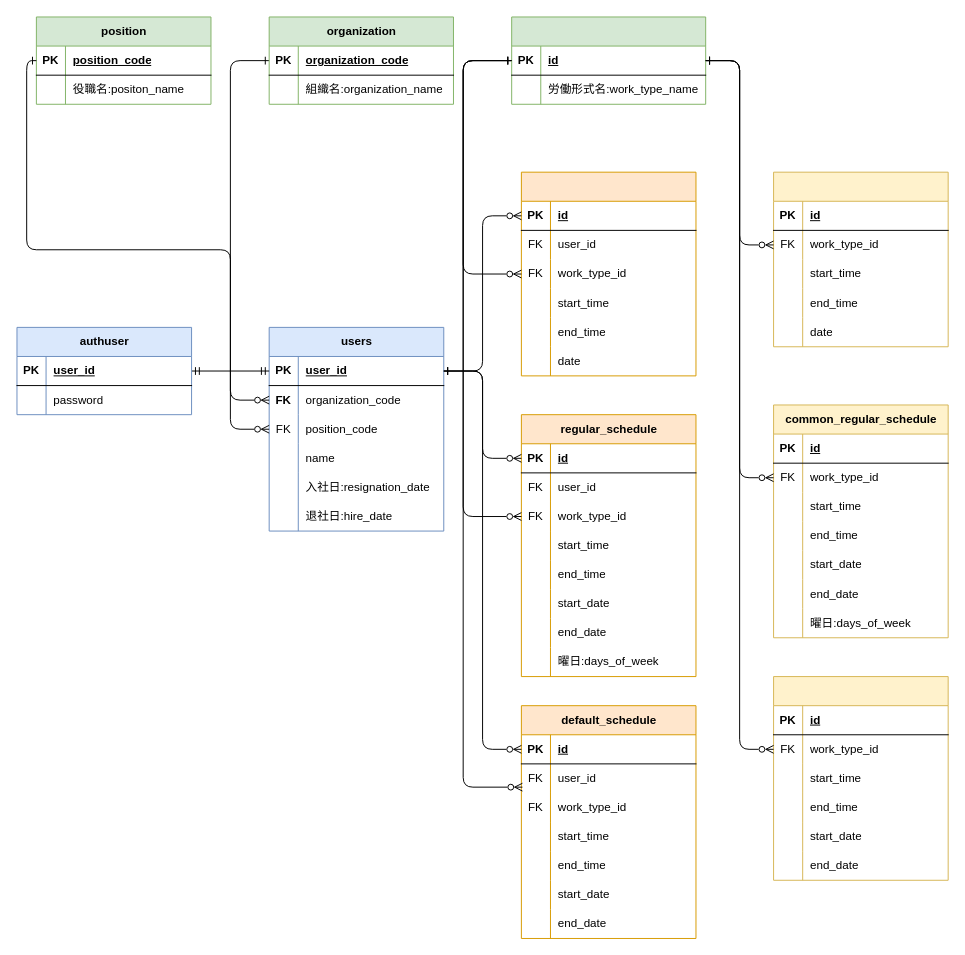
This 965x955 diagram has some shape labels left out. The box of each missing label's shape, as (x1, y1, x2, y2) in pixels:
common_default_schedule: (773, 676, 948, 880)
common_irregular_schedule: (773, 171, 948, 347)
irregular_schedule: (520, 171, 696, 376)
schedule_type: (511, 16, 706, 104)
